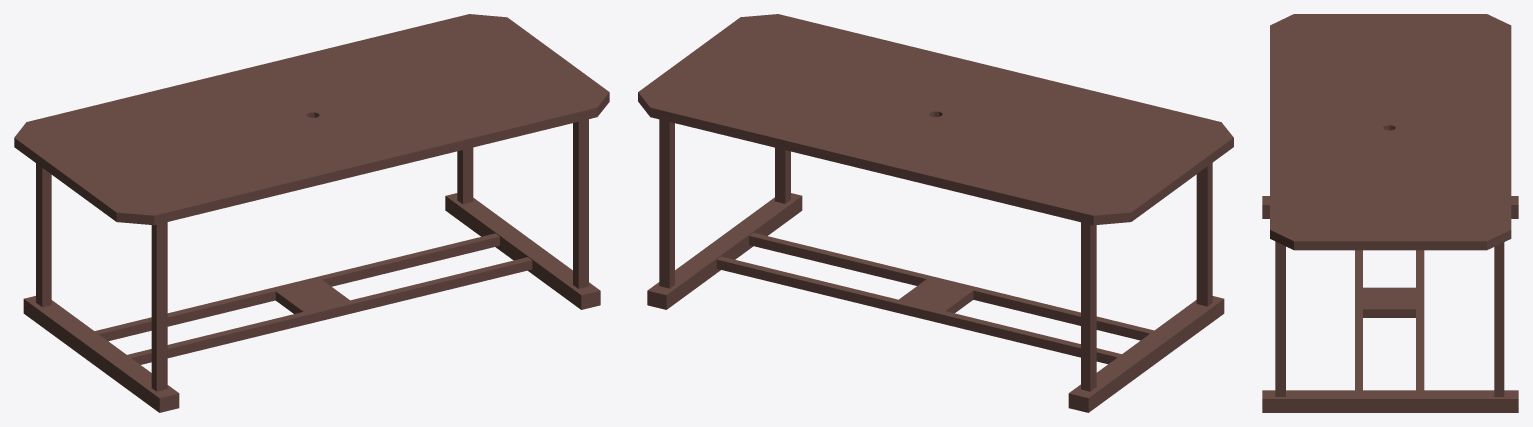
Rendered from Garden Table.glb.
3 views of the same model, side by side, from view 1: azimuth 30°, elevation 25°; view 2: azimuth 150°, elevation 25°; view 3: azimuth 270°, elevation 25° (orthographic). The views are drawn at different scales.
Parts seen in each view (by area): view 1: Table; view 2: Table; view 3: Table.
Boxes of the visible parts, left/top/right/bottom form: Table: left=14, top=14, right=609, bottom=412; Table: left=638, top=14, right=1233, bottom=412; Table: left=1262, top=14, right=1518, bottom=412.
Size of the model in its own units: 2.4 by 0.9045 by 1.15.
Materials: 1 (1 with a texture image).
